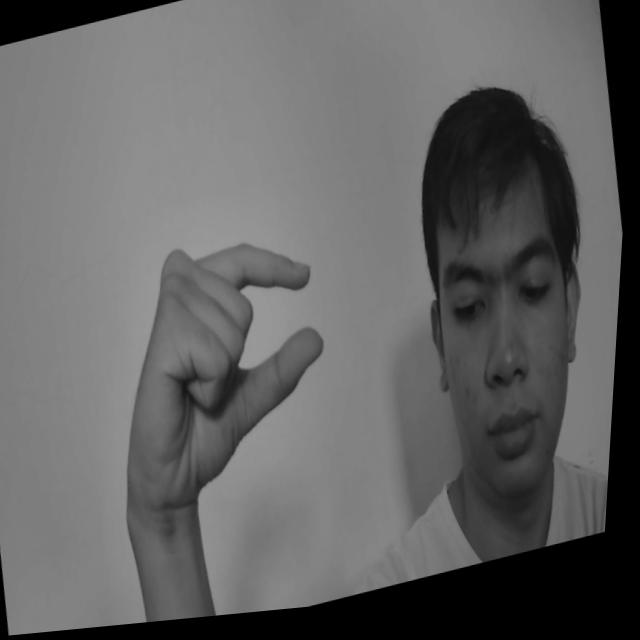G: (91, 215, 356, 525)
